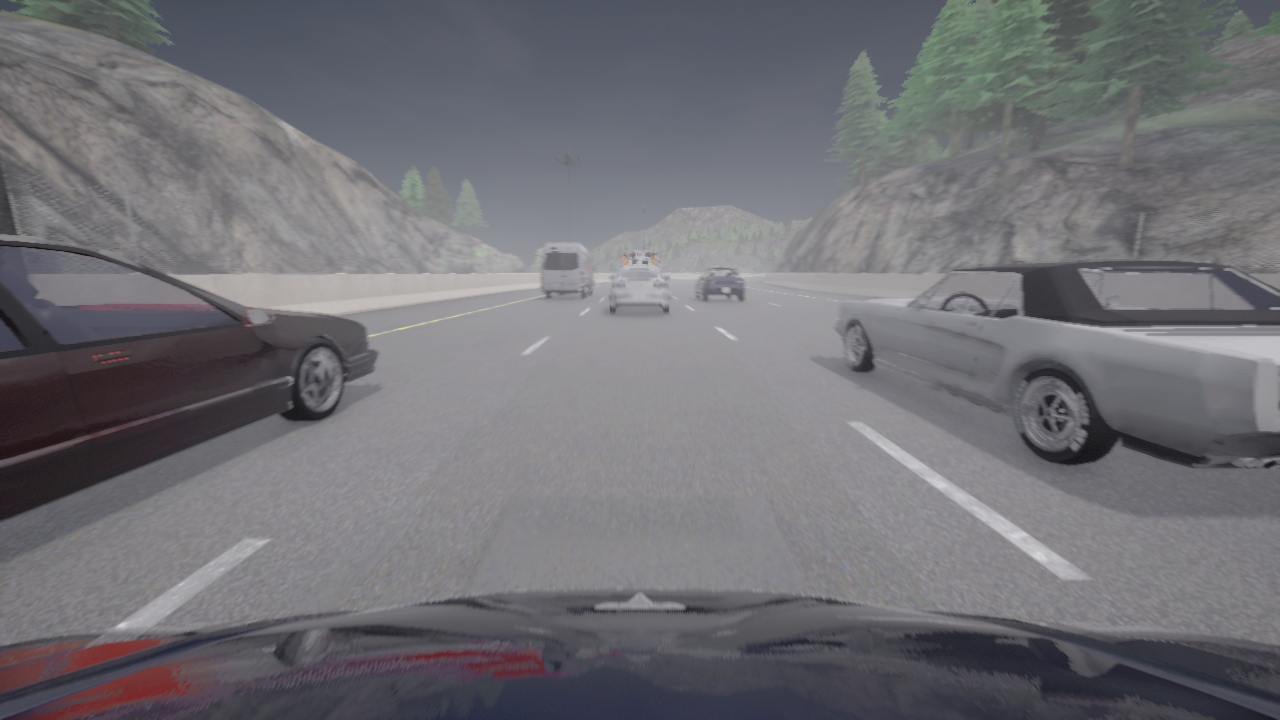cyclist: (0, 588, 1279, 719), (834, 260, 1279, 469), (541, 243, 595, 298), (609, 265, 670, 313), (694, 267, 744, 301), (620, 251, 660, 271)
